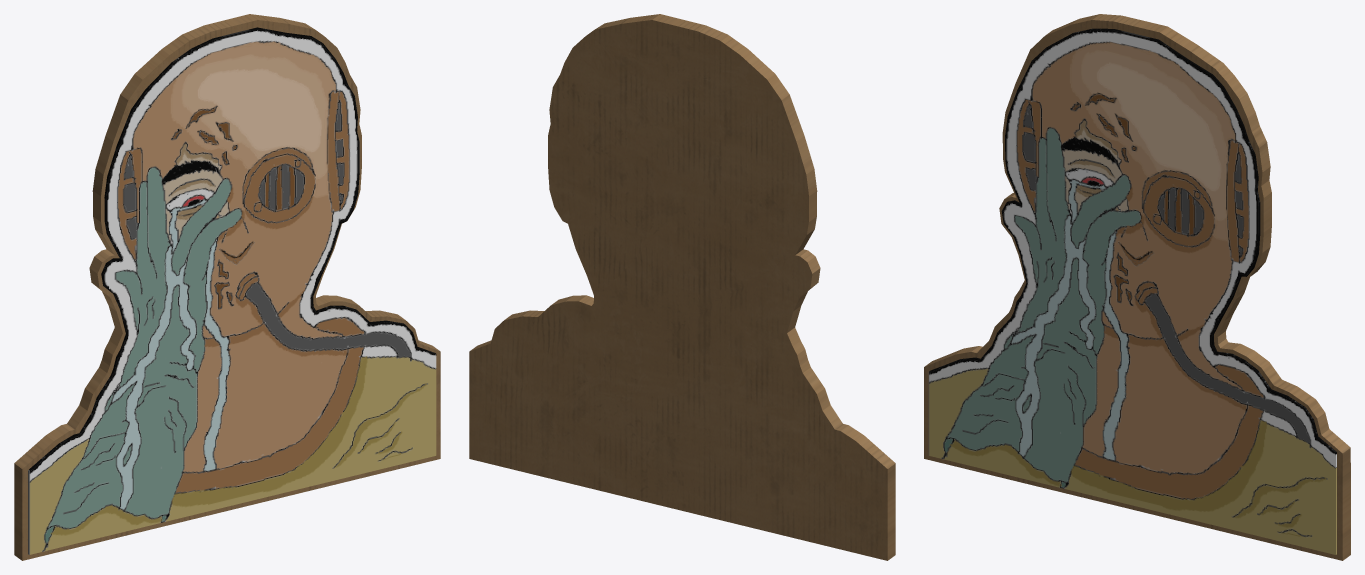
File: Neighbour_2.fbx
3 views of the same model, side by side, from view 1: azimuth 30°, elevation 25°; view 2: azimuth 150°, elevation 25°; view 3: azimuth 330°, elevation 25° (orthographic).
Parts seen in each view (by area): view 1: GDP_Neighbour_2; view 2: GDP_Neighbour_2; view 3: GDP_Neighbour_2.
Part boxes in pixels (box(x1,y1,x2,y2)): GDP_Neighbour_2: box(14, 14, 440, 560); GDP_Neighbour_2: box(469, 14, 895, 560); GDP_Neighbour_2: box(924, 14, 1350, 560).
Size of the model in its own units: 250 by 276 by 9.72.
